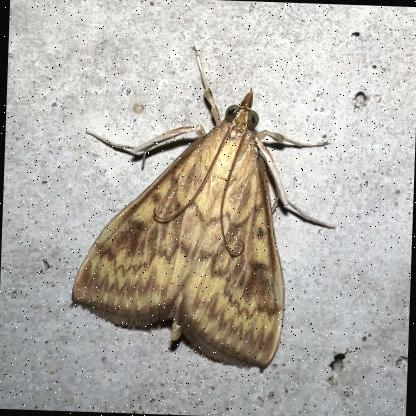Asian Corn Borer Moth: (63, 38, 345, 378)
